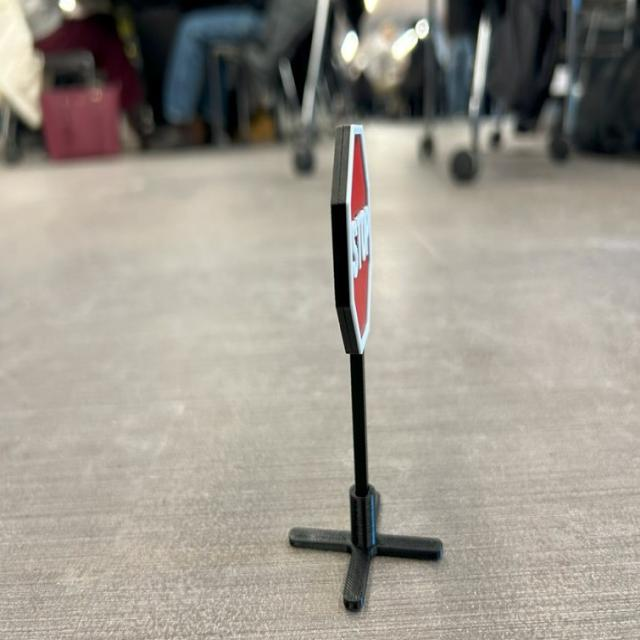sign_stop: (305, 112, 402, 380)
